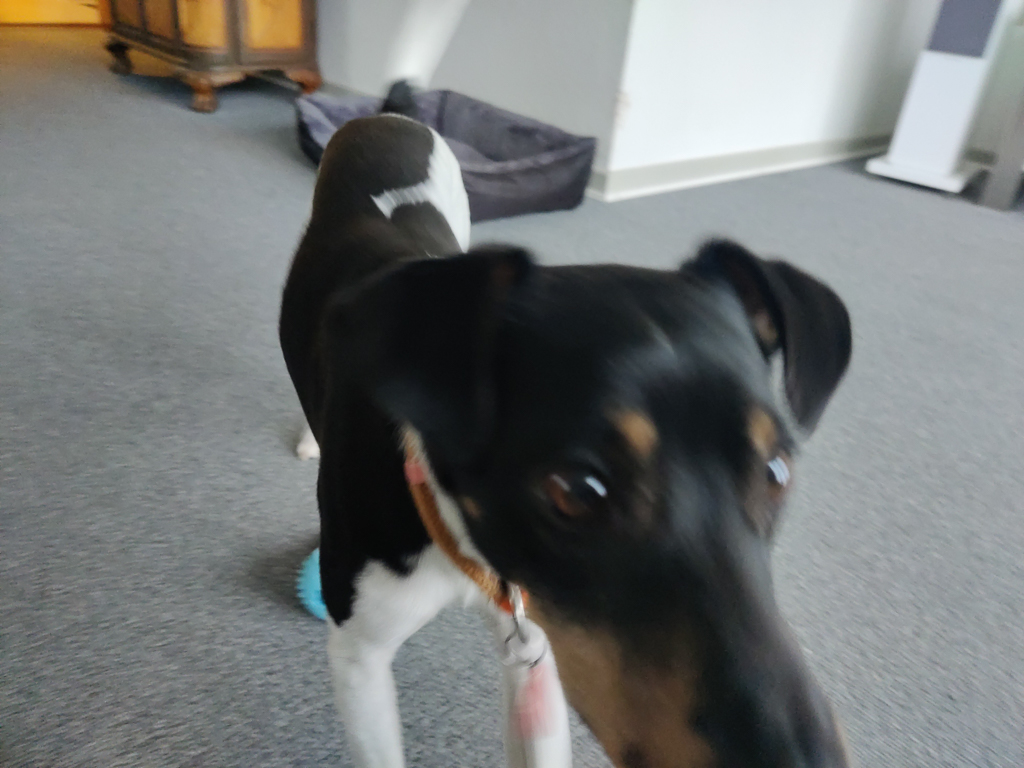Dog: (252, 0, 889, 768)
